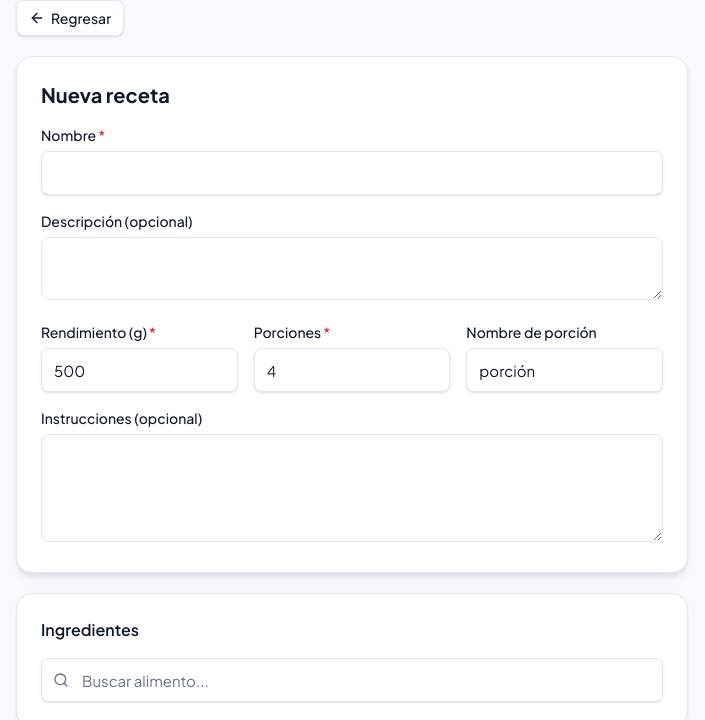
RecipeEditorPage — micronutrient availability preview › warns when an ingredient has partial/unknown micronutrient coverage
Type "pocos" into the field with placeholder "Buscar alimento..." at (352, 680), box x1=41 y1=658 x2=663 y2=702
(page scrolled)
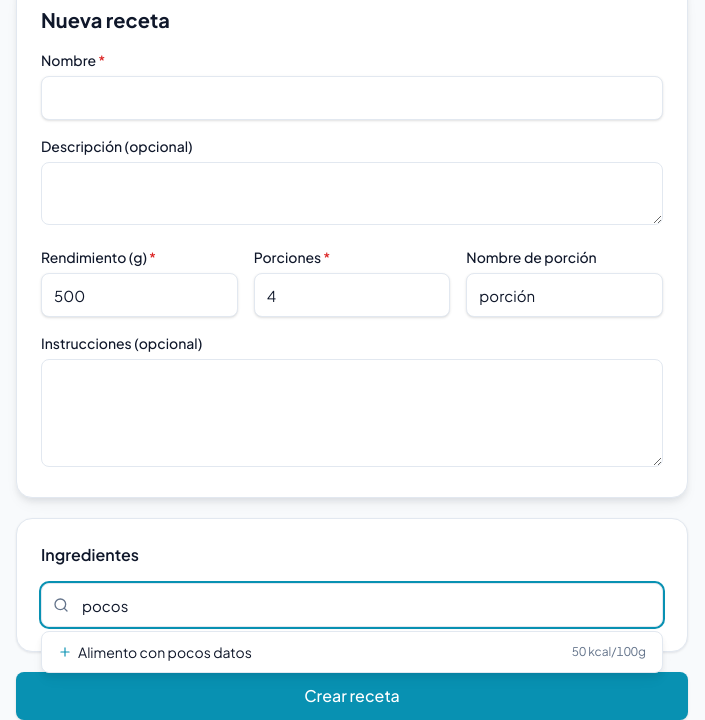
Click the text "Alimento con pocos datos" at (155, 652), box x1=58 y1=642 x2=252 y2=662
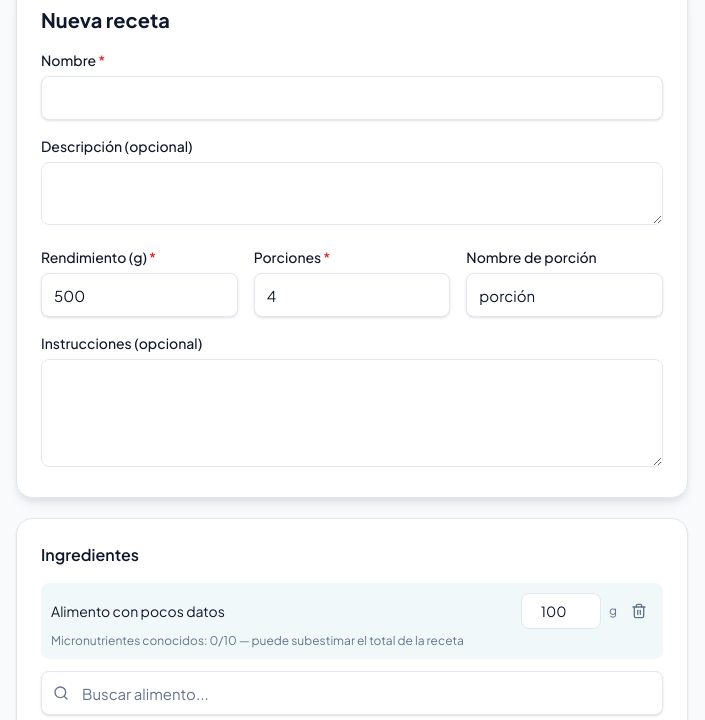
Result: the text "puede subestimar el total de la receta" is shown at x1=237 y1=633 x2=464 y2=648
